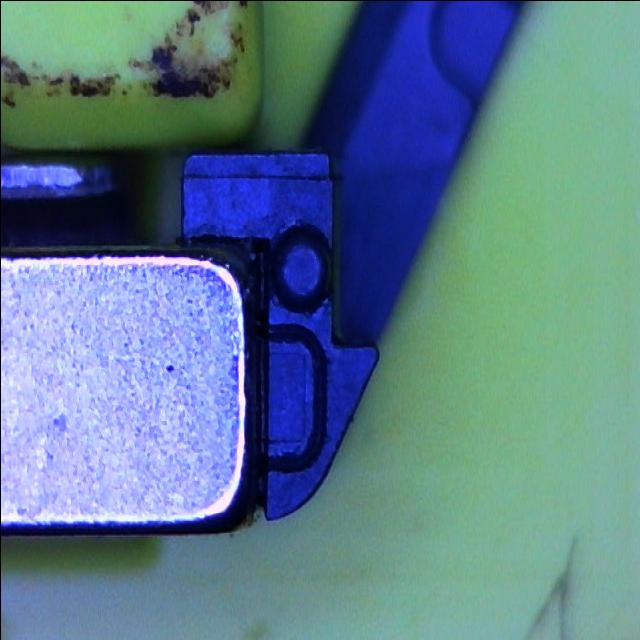lacking: (260, 321, 328, 474)
